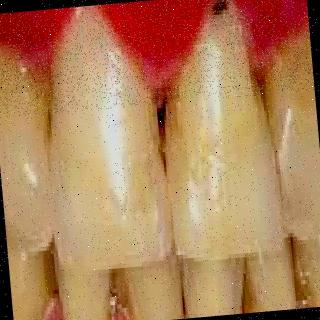cavities: (189, 0, 263, 47)
